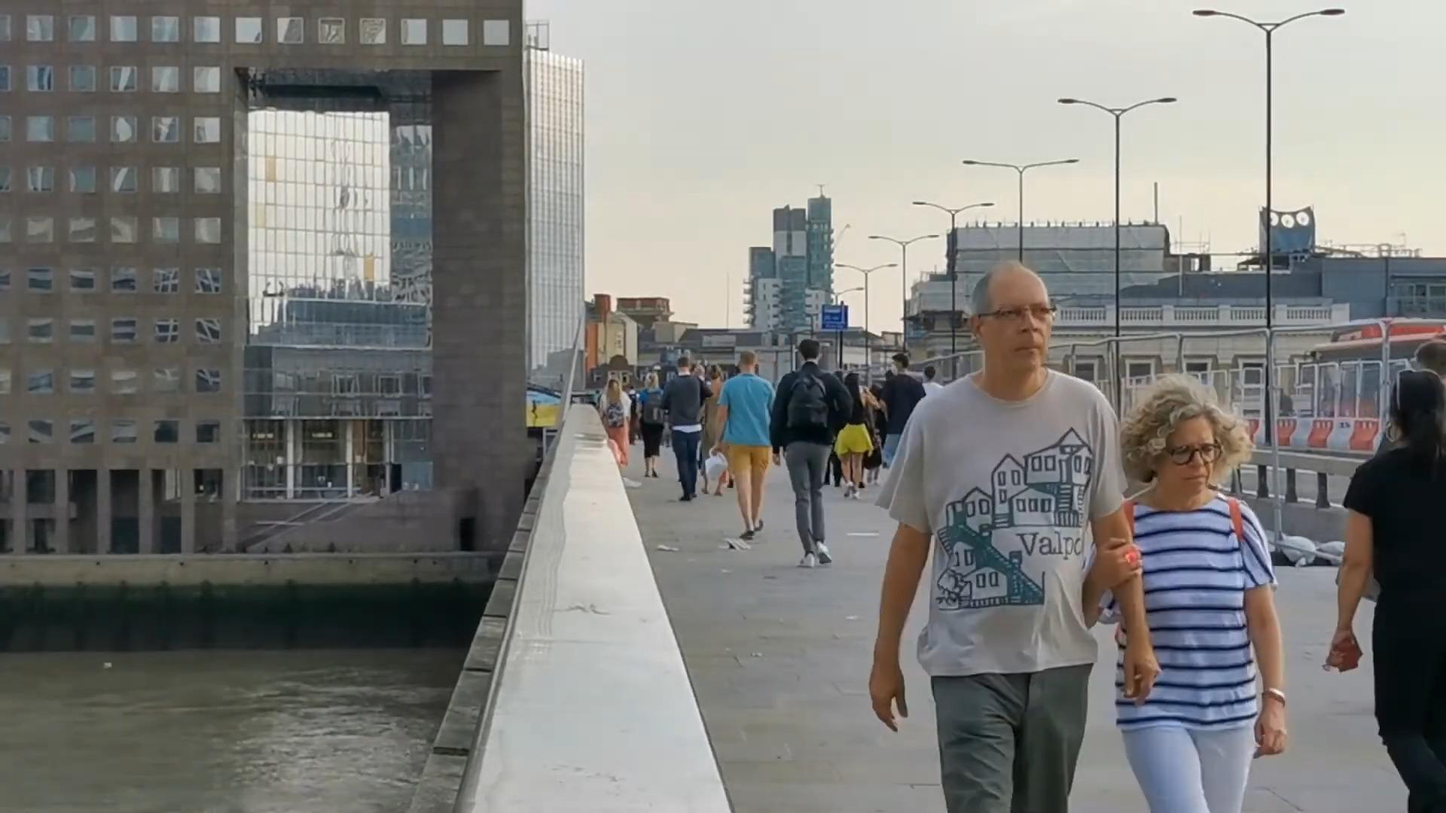no-helmet: (1119, 373, 1255, 498), (968, 260, 1060, 374), (1384, 369, 1446, 470), (798, 339, 822, 363), (891, 353, 909, 376), (739, 351, 758, 372), (844, 373, 861, 396), (605, 378, 622, 400), (707, 363, 724, 384), (675, 356, 691, 373)
